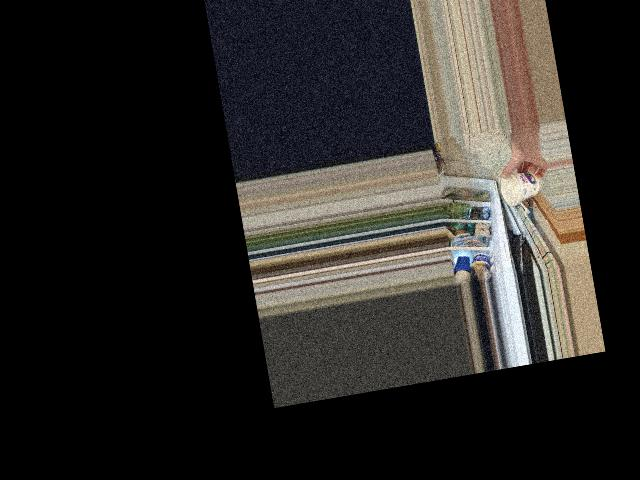cotage: (498, 167, 541, 204)
